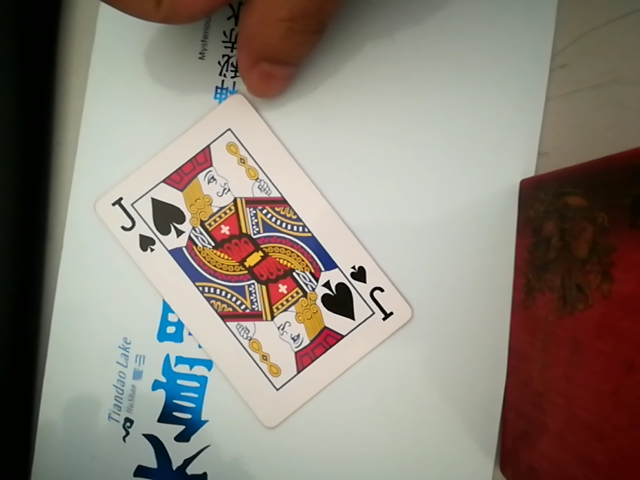ht j: (99, 90, 423, 422)
